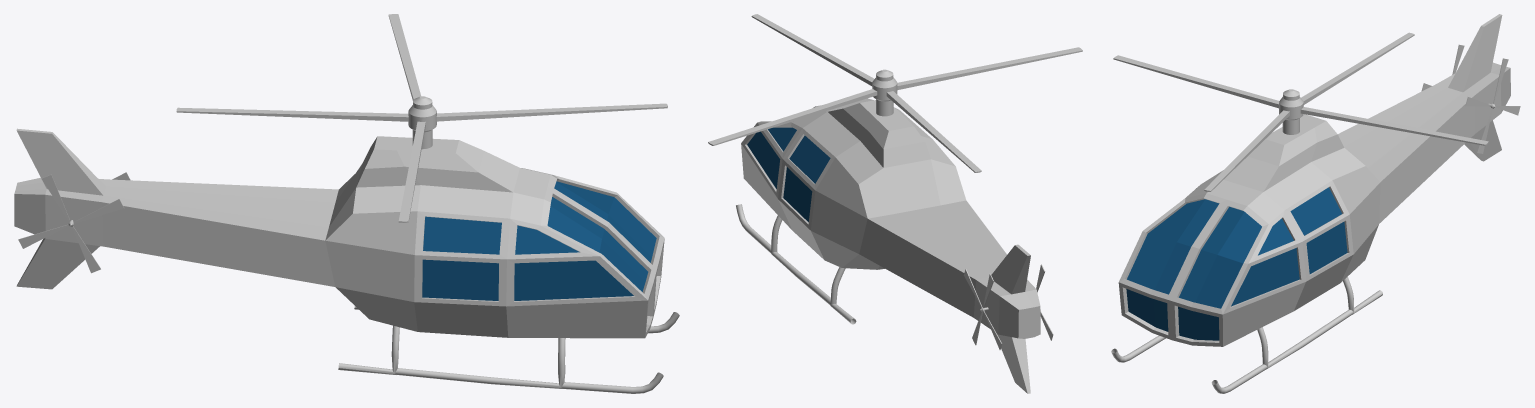
Rendered from helicopter_animation_000105.obj.
The picture shows the model from 3 angles, left to right: view 1: azimuth 30°, elevation 25°; view 2: azimuth 150°, elevation 25°; view 3: azimuth 270°, elevation 25°; orthographic projection. The views are drawn at different scales.
Parts seen in each view (by area): view 1: Helicopter.007_Cylinder.008, Helicopter.001_Cylinder.001, Helicopter.004_Cylinder.005; view 2: Helicopter.007_Cylinder.008, Helicopter.001_Cylinder.001, Helicopter.003_Cylinder.004; view 3: Helicopter.007_Cylinder.008, Helicopter.001_Cylinder.001, Helicopter.003_Cylinder.004.
Part boxes in pixels (x1,y1,x2,y2): Helicopter.007_Cylinder.008: [14, 128, 679, 393]; Helicopter.001_Cylinder.001: [176, 14, 667, 222]; Helicopter.004_Cylinder.005: [18, 174, 124, 273]; Helicopter.007_Cylinder.008: [736, 98, 1040, 393]; Helicopter.001_Cylinder.001: [708, 14, 1082, 172]; Helicopter.003_Cylinder.004: [963, 269, 1002, 349]; Helicopter.007_Cylinder.008: [1111, 14, 1510, 393]; Helicopter.001_Cylinder.001: [1113, 32, 1488, 191]; Helicopter.003_Cylinder.004: [1465, 58, 1520, 153].
Size of the model in its own units: 6.69 by 3.2 by 5.37.
